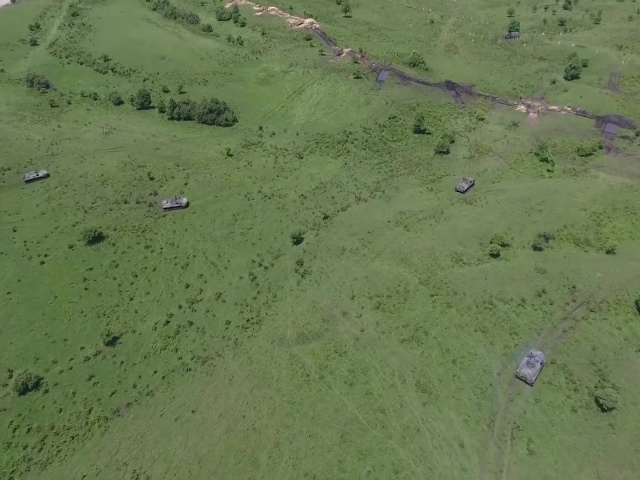vehicle: (515, 347, 548, 388), (20, 168, 51, 184), (161, 195, 190, 211), (454, 175, 476, 194)
